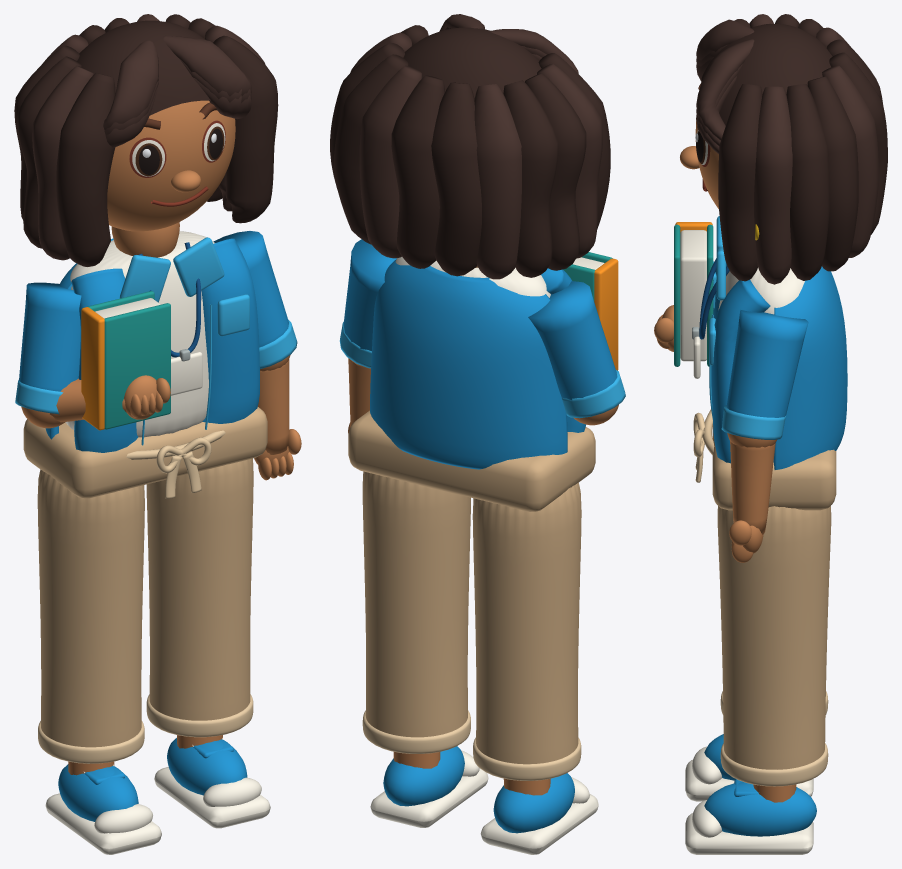
The model's file is educator.glb.
3 renders of one model, left to right at view 1: azimuth 30°, elevation 25°; view 2: azimuth 150°, elevation 25°; view 3: azimuth 270°, elevation 25°, orthographic.
Visible parts, largest first — view 1: trouser_-1, trouser_1, trouser_waist, head_surface, wavy_hair_10, jacket_front_1, wavy_hair_16, book_teal_cover, inner_white_shirt, jacket_sleeve_-1, hair_scalp, wavy_hair_9 (+30 smaller); view 2: jacket_back, trouser_-1, trouser_1, trouser_waist, wavy_hair_5, wavy_hair_6, wavy_hair_4, jacket_sleeve_-1, wavy_hair_7, wavy_hair_3, hair_scalp, wavy_hair_8 (+20 smaller); view 3: trouser_1, jacket_back, jacket_sleeve_1, wavy_hair_1, wavy_hair_0, wavy_hair_16, wavy_hair_2, hair_scalp, trouser_waist, sneaker_1_upper, wavy_hair_3, jacket_front_1 (+21 smaller).
Part boxes in pixels (bbox=[...]): trouser_-1: bbox=[37, 469, 144, 747]; trouser_1: bbox=[146, 458, 253, 720]; trouser_waist: bbox=[23, 407, 267, 498]; head_surface: bbox=[107, 100, 235, 231]; wavy_hair_10: bbox=[56, 73, 115, 266]; jacket_front_1: bbox=[201, 238, 259, 423]; wavy_hair_16: bbox=[213, 35, 278, 223]; book_teal_cover: bbox=[104, 303, 170, 429]; inner_white_shirt: bbox=[65, 231, 214, 437]; jacket_sleeve_-1: bbox=[19, 282, 81, 391]; hair_scalp: bbox=[77, 20, 210, 115]; wavy_hair_9: bbox=[32, 65, 93, 260]; jacket_back: bbox=[370, 259, 567, 469]; trouser_-1: bbox=[472, 482, 581, 764]; trouser_1: bbox=[362, 471, 470, 737]; trouser_waist: bbox=[348, 410, 595, 511]; wavy_hair_5: bbox=[431, 82, 481, 276]; wavy_hair_6: bbox=[474, 84, 521, 279]; wavy_hair_4: bbox=[391, 75, 444, 268]; jacket_sleeve_-1: bbox=[528, 281, 617, 400]; wavy_hair_7: bbox=[503, 80, 558, 277]; wavy_hair_3: bbox=[359, 65, 421, 258]; hair_scalp: bbox=[403, 27, 541, 97]; wavy_hair_8: bbox=[525, 73, 586, 270]; trouser_1: bbox=[717, 506, 831, 769]; jacket_back: bbox=[773, 266, 847, 469]; jacket_sleeve_1: bbox=[726, 310, 808, 417]; wavy_hair_1: bbox=[786, 84, 829, 280]; wavy_hair_0: bbox=[754, 86, 792, 284]; wavy_hair_16: bbox=[718, 84, 762, 281]; wavy_hair_2: bbox=[807, 76, 858, 271]; hair_scalp: bbox=[701, 23, 832, 125]; trouser_waist: bbox=[712, 424, 836, 510]; sneaker_1_upper: bbox=[704, 782, 816, 836]; wavy_hair_3: bbox=[822, 65, 878, 257]; jacket_front_1: bbox=[711, 279, 770, 463].
Size of the model in its own units: 0.607 by 1.65 by 0.4447.
